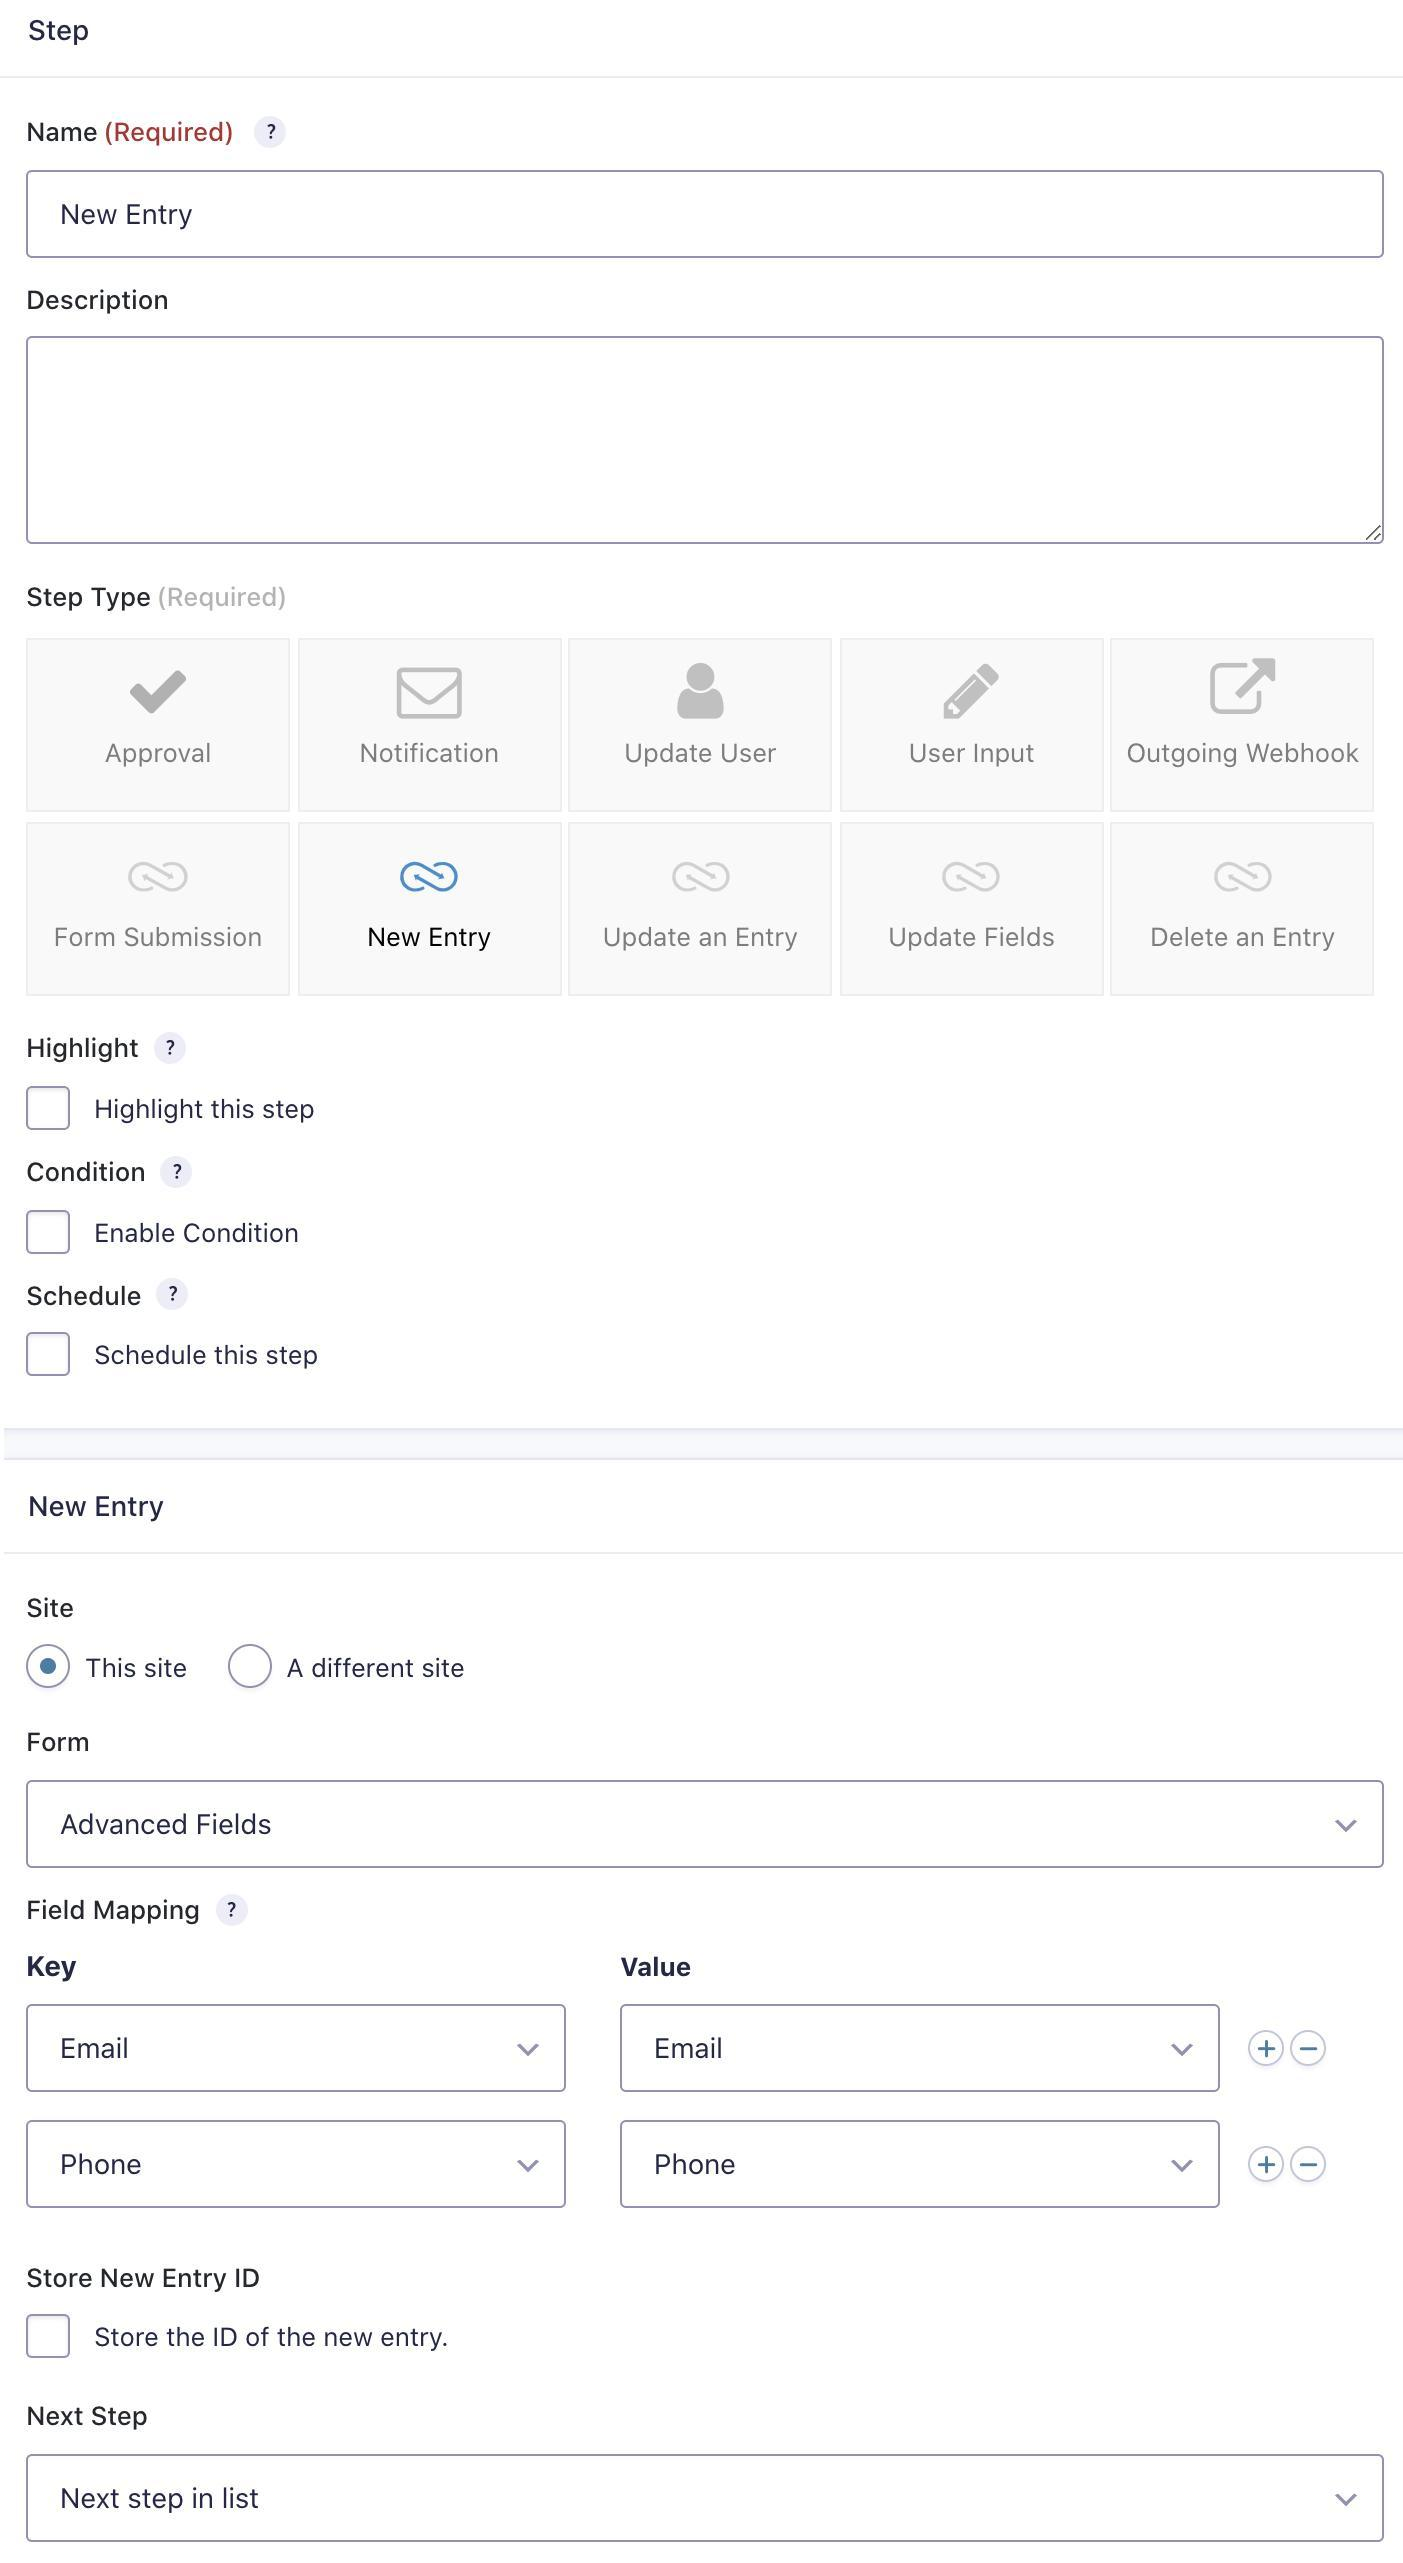checkbox: (16, 2306, 90, 2370), (22, 1318, 76, 1383), (24, 1200, 78, 1263), (21, 1083, 76, 1138)
dropdown: (29, 2454, 1386, 2542), (28, 1782, 1382, 1870), (619, 2005, 1223, 2093), (620, 2123, 1223, 2211), (29, 2117, 565, 2212), (24, 2005, 563, 2093)
icon: (1201, 648, 1286, 727), (931, 648, 1007, 727), (663, 655, 729, 725), (117, 850, 202, 902), (399, 661, 461, 729), (384, 850, 467, 900), (928, 853, 1013, 900), (662, 853, 740, 902), (1197, 850, 1270, 898), (126, 670, 190, 715), (256, 119, 289, 150)
input: (24, 173, 1382, 259)
label: (86, 2319, 448, 2356), (85, 1330, 320, 1378), (24, 112, 242, 157), (17, 584, 294, 618), (90, 1214, 313, 1256), (48, 914, 268, 953), (1123, 739, 1363, 774), (17, 2261, 273, 2292), (16, 1891, 206, 1933), (598, 921, 802, 959), (92, 1093, 330, 1124), (285, 1649, 468, 1687), (1144, 921, 1341, 955), (883, 921, 1068, 955), (21, 1485, 166, 1528), (22, 282, 180, 321), (624, 737, 790, 772), (17, 2397, 161, 2437), (361, 737, 505, 772), (14, 1157, 150, 1192), (359, 921, 499, 953), (81, 1648, 194, 1687), (21, 1033, 143, 1067), (21, 1283, 145, 1313), (904, 744, 1045, 769), (98, 741, 221, 767), (14, 1727, 104, 1762), (24, 10, 100, 48), (619, 1950, 705, 1981), (17, 1948, 86, 1986), (21, 1591, 81, 1623)
radio: (219, 1642, 280, 1694), (21, 1637, 78, 1691)
